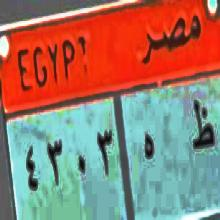0: (72, 147, 90, 183)
3: (96, 125, 115, 181), (46, 135, 64, 189)
4: (24, 140, 40, 198)
Thaa: (190, 93, 216, 158)
haa: (139, 122, 158, 167)
